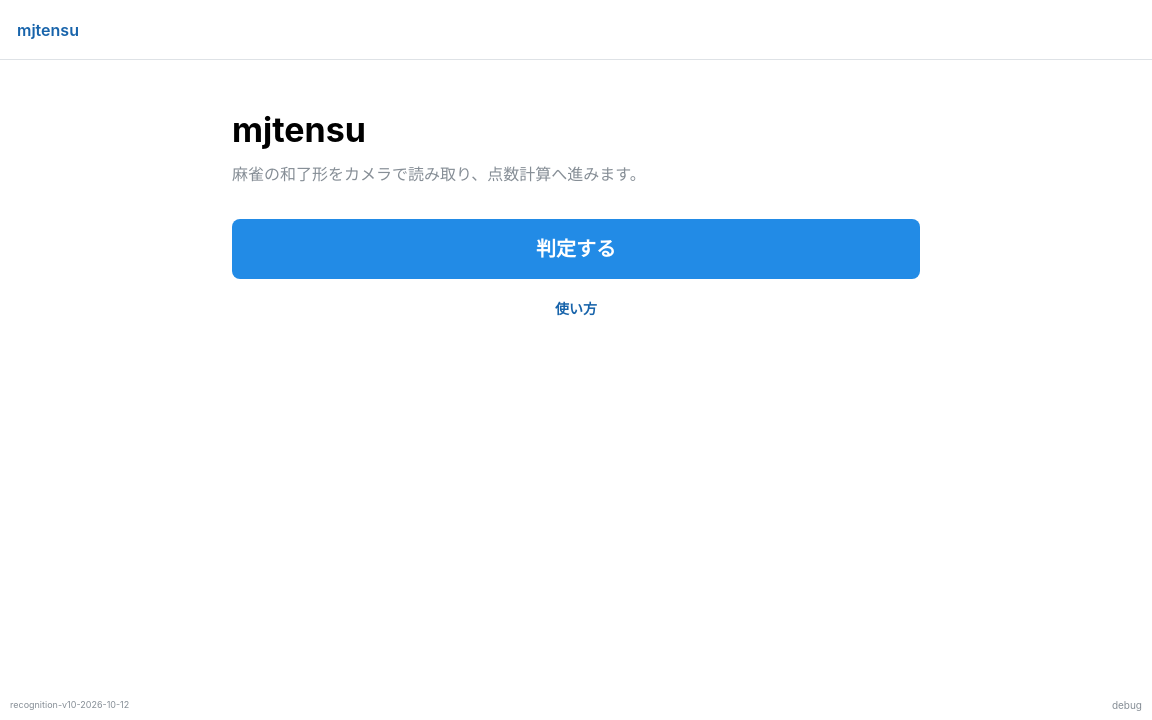
Test: production shell routing › starts Recognition only through the explicit Top action and clears prior state
This screenshot has width=1152, height=720.
Click the button "判定する": x=576, y=249 [232, 219, 920, 279]
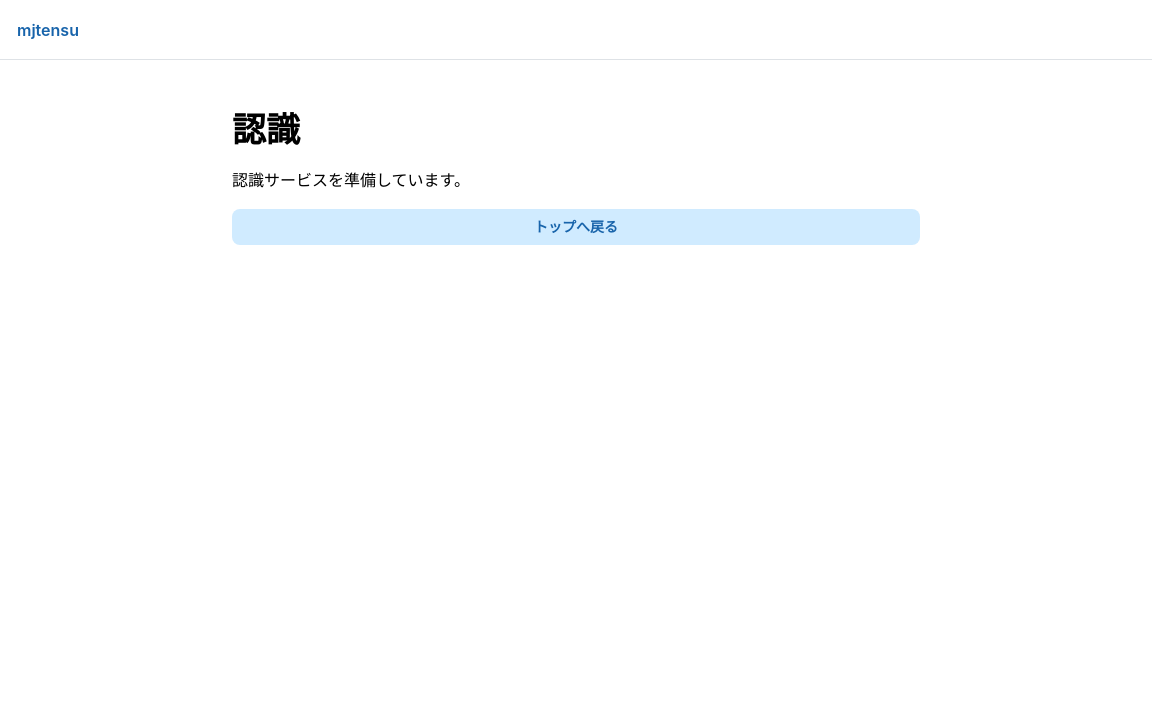
Expected: the heading "認識" is shown, [232, 109, 300, 150]
